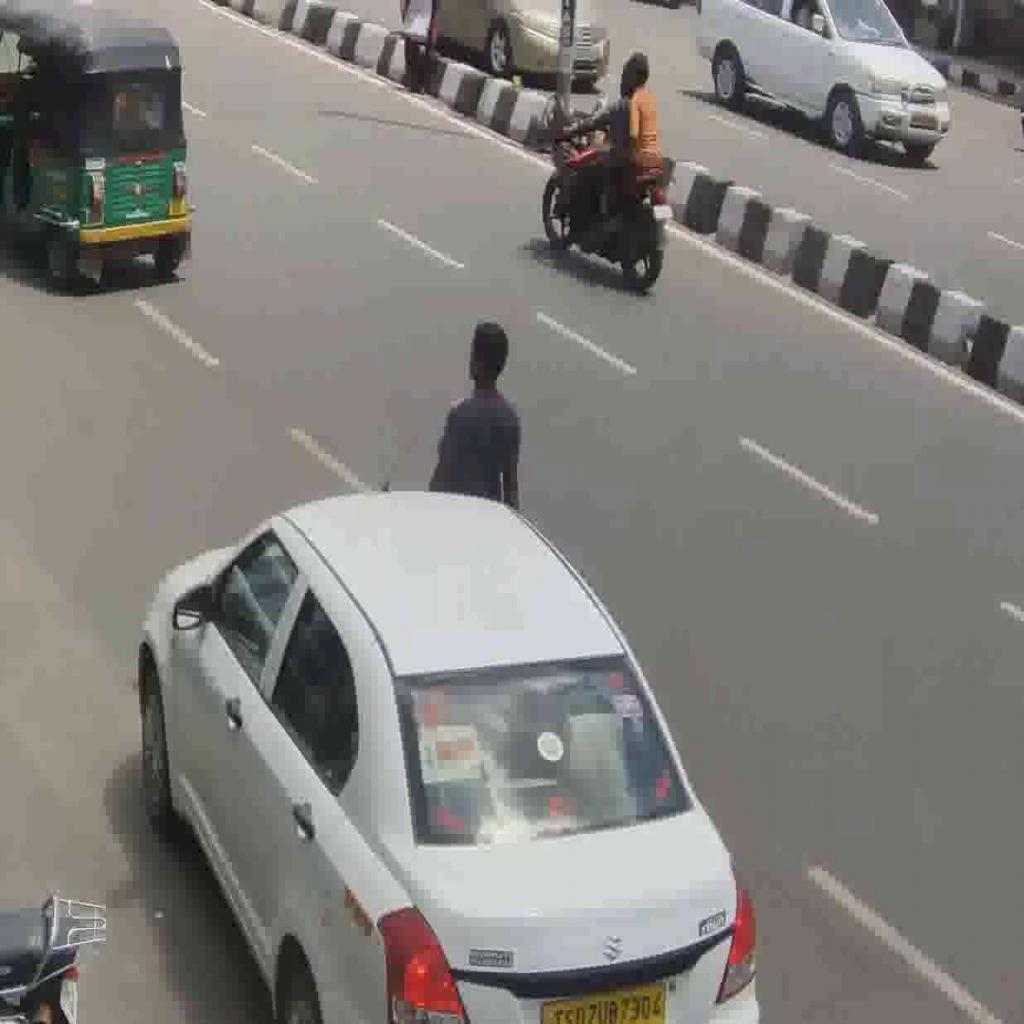helmet: (542, 108, 674, 291)
